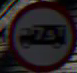Heavy Vehicles: (10, 8, 70, 62)
